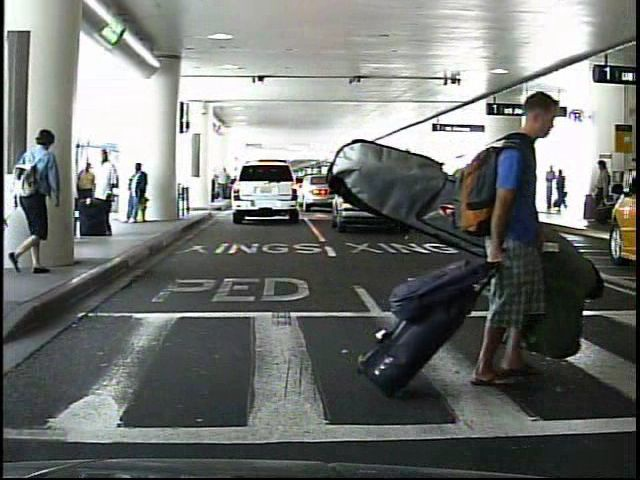person: (452, 83, 563, 389), (13, 130, 63, 275), (91, 146, 118, 239), (124, 161, 150, 227), (588, 158, 611, 225), (75, 158, 95, 230), (541, 164, 556, 212), (553, 169, 565, 213)
